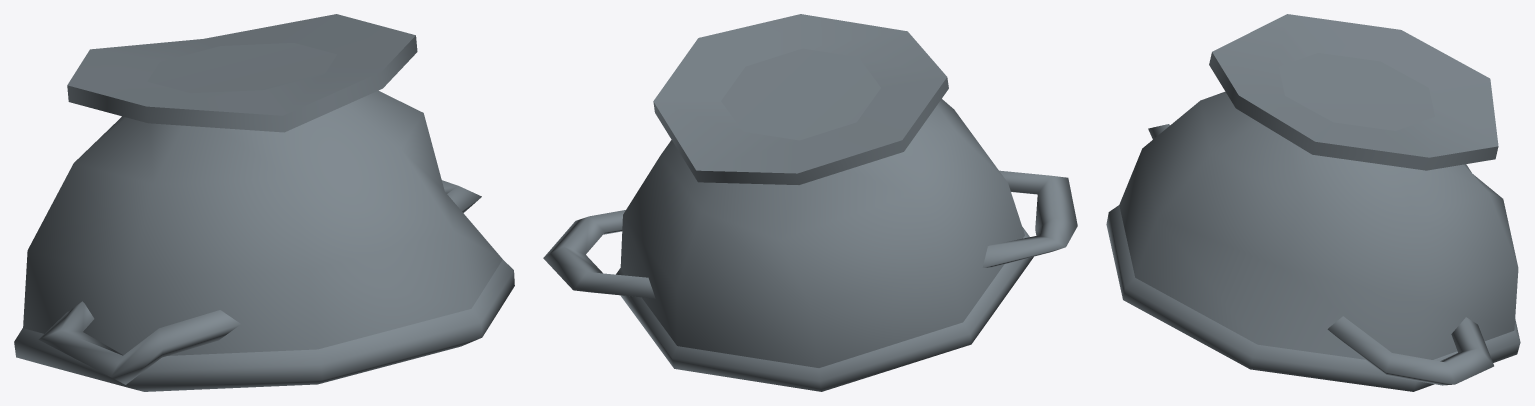
File: Collander.fbx
3 renders of one model, left to right at view 1: azimuth 30°, elevation 25°; view 2: azimuth 150°, elevation 25°; view 3: azimuth 270°, elevation 25°, orthographic. The views are drawn at different scales.
Visible parts, largest first — view 1: Torus.002; view 2: Torus.002; view 3: Torus.002.
Part boxes in pixels (box(x1,y1,x2,y2)): Torus.002: box(14, 14, 514, 391); Torus.002: box(543, 14, 1077, 391); Torus.002: box(1106, 14, 1520, 391).
Size of the model in its own units: 1.75 by 1.01 by 1.42.
